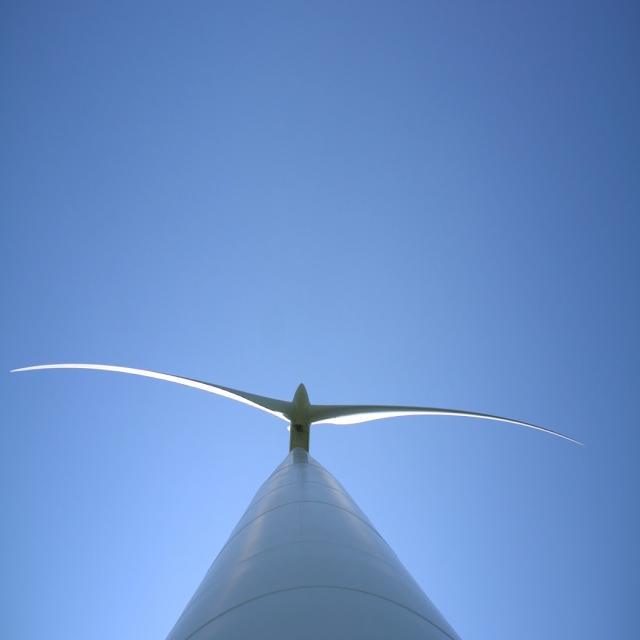blade 1: (331, 395, 597, 463)
blade 2: (284, 422, 292, 448)
blade 3: (14, 340, 264, 412)
